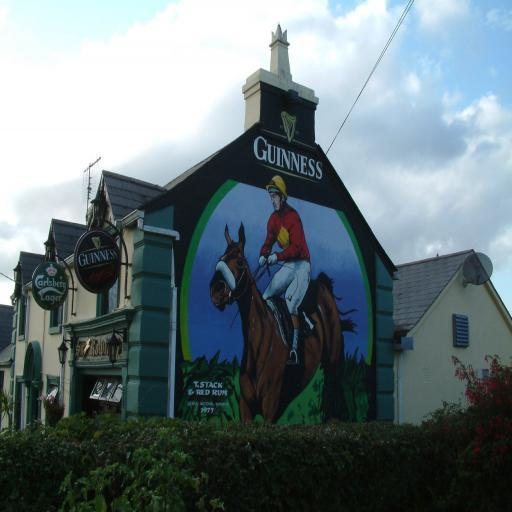horse: (208, 220, 360, 426)
